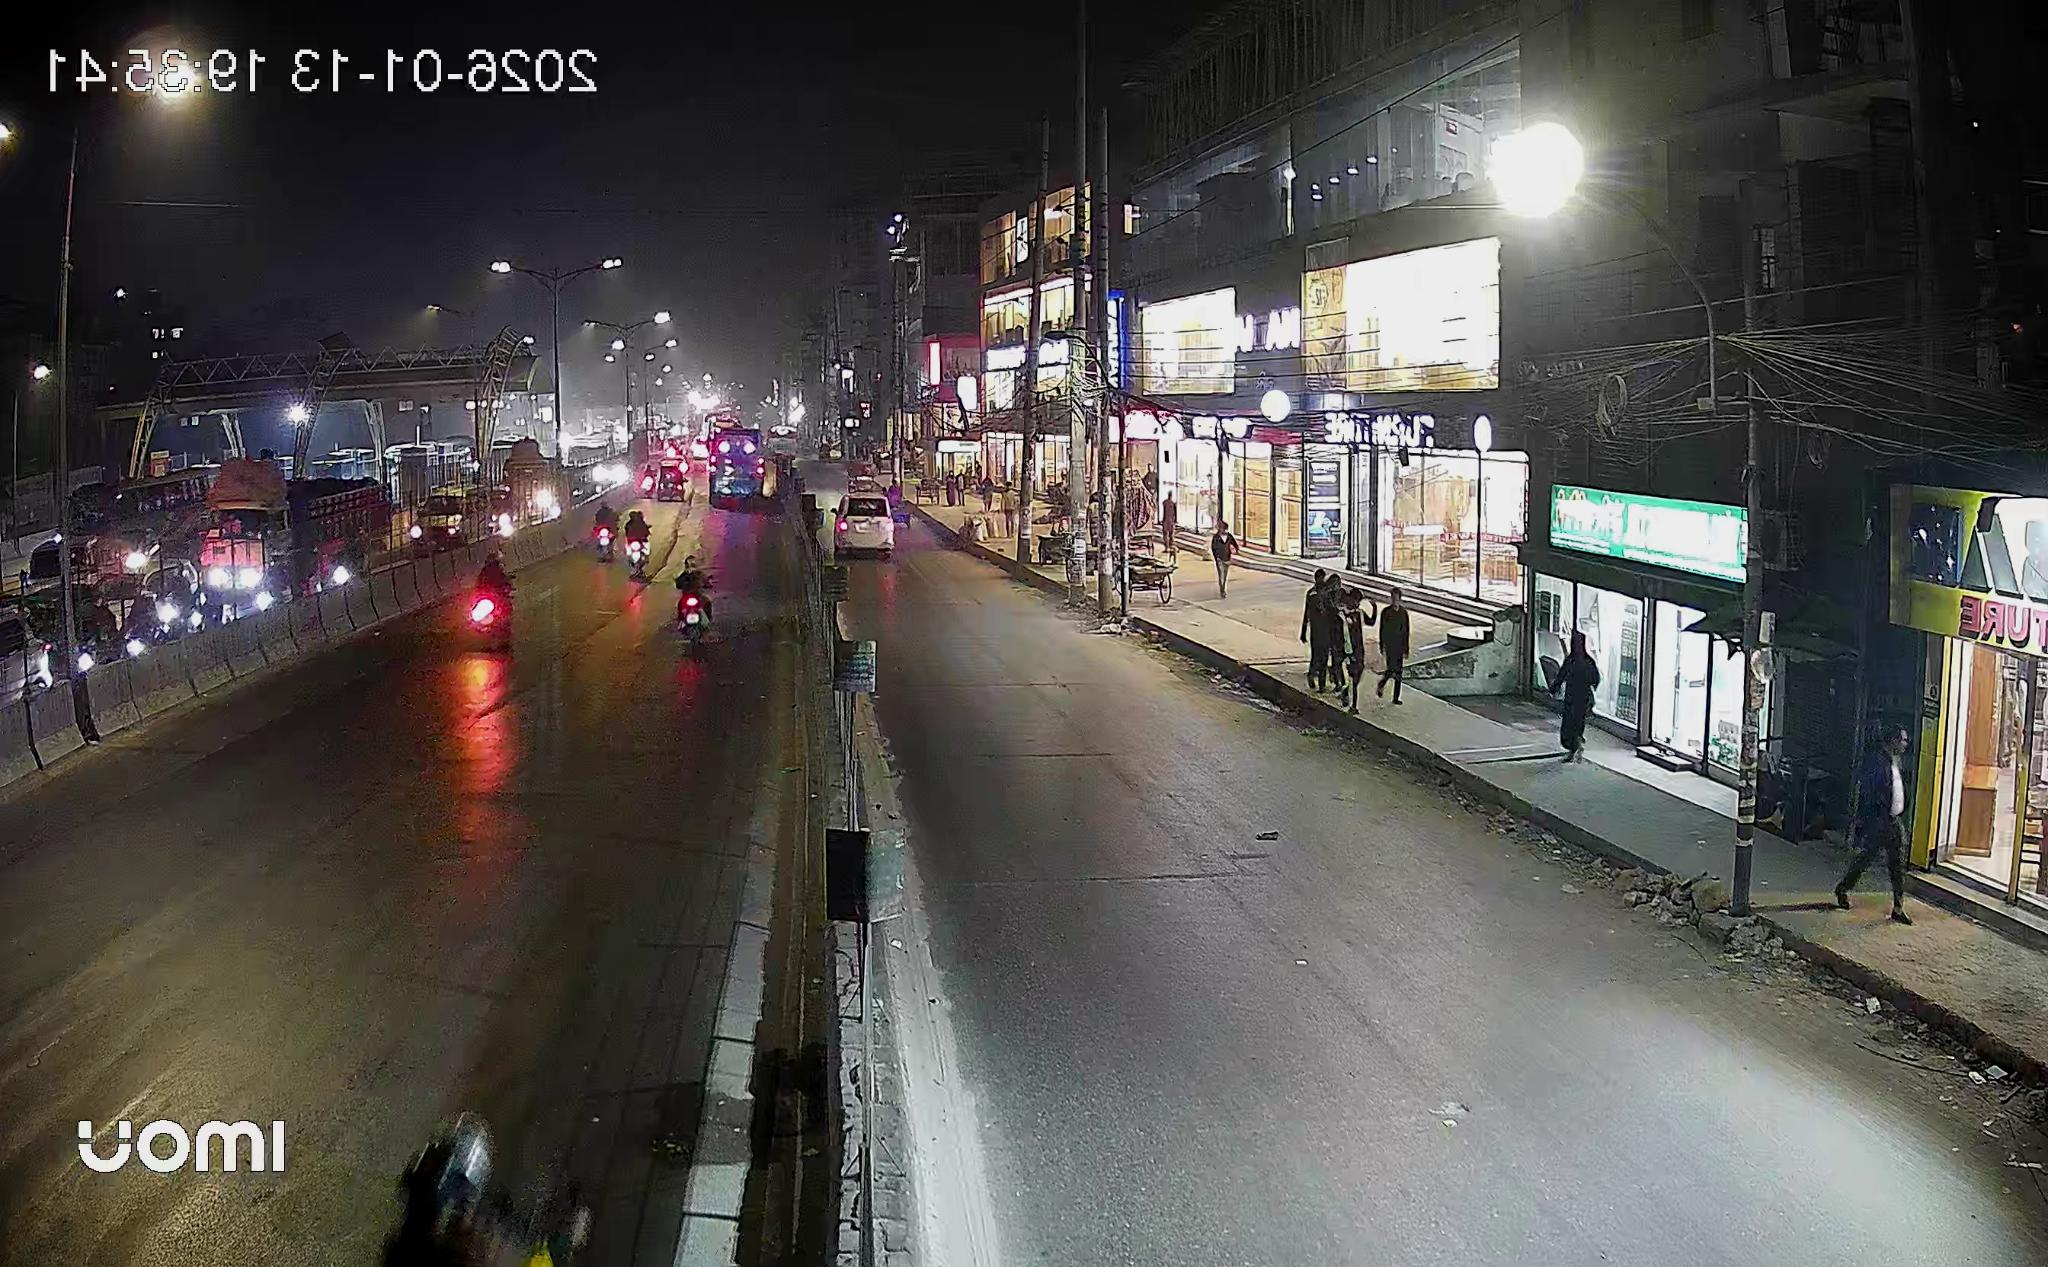Microbus: (834, 490, 894, 557)
Motorcycle: (468, 553, 513, 650), (674, 556, 709, 635), (620, 509, 651, 579)
